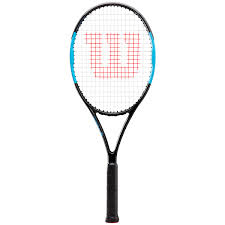tennis racket: (70, 1, 158, 225)
